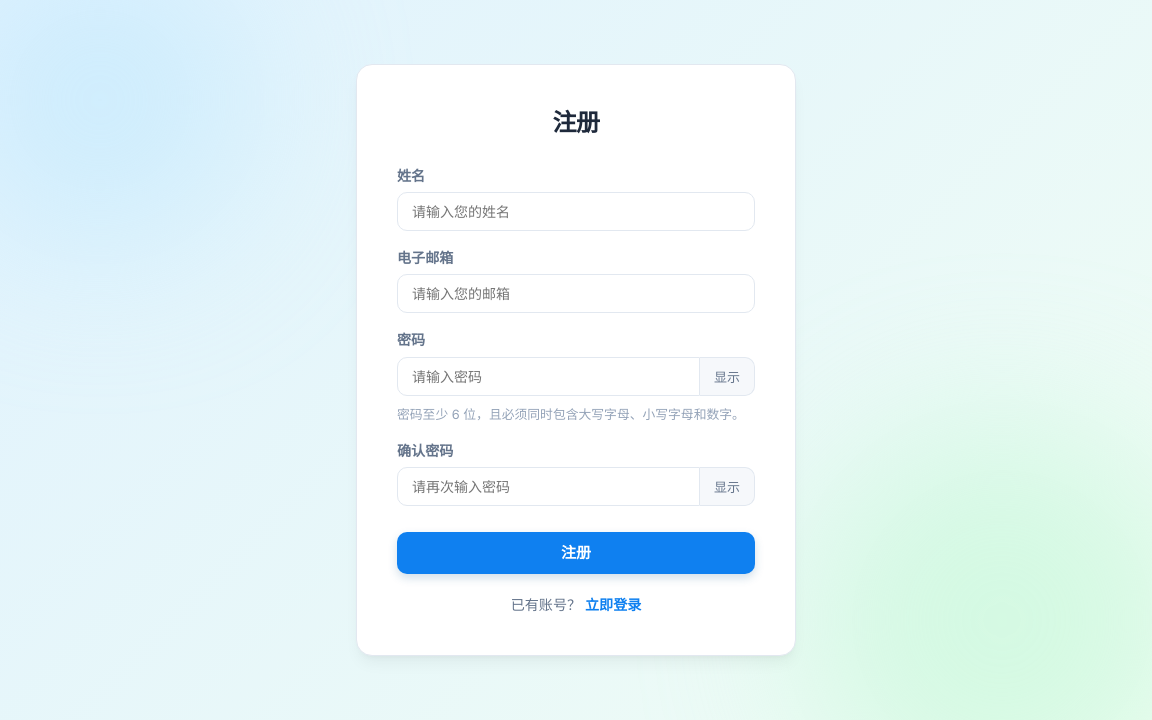
Test case: Register › 两次密码不一致时阻止提交并显示字段错误
Type "张三" into the field labelled "姓名".
click(576, 212); type("张三")  # box [397,192,755,231]
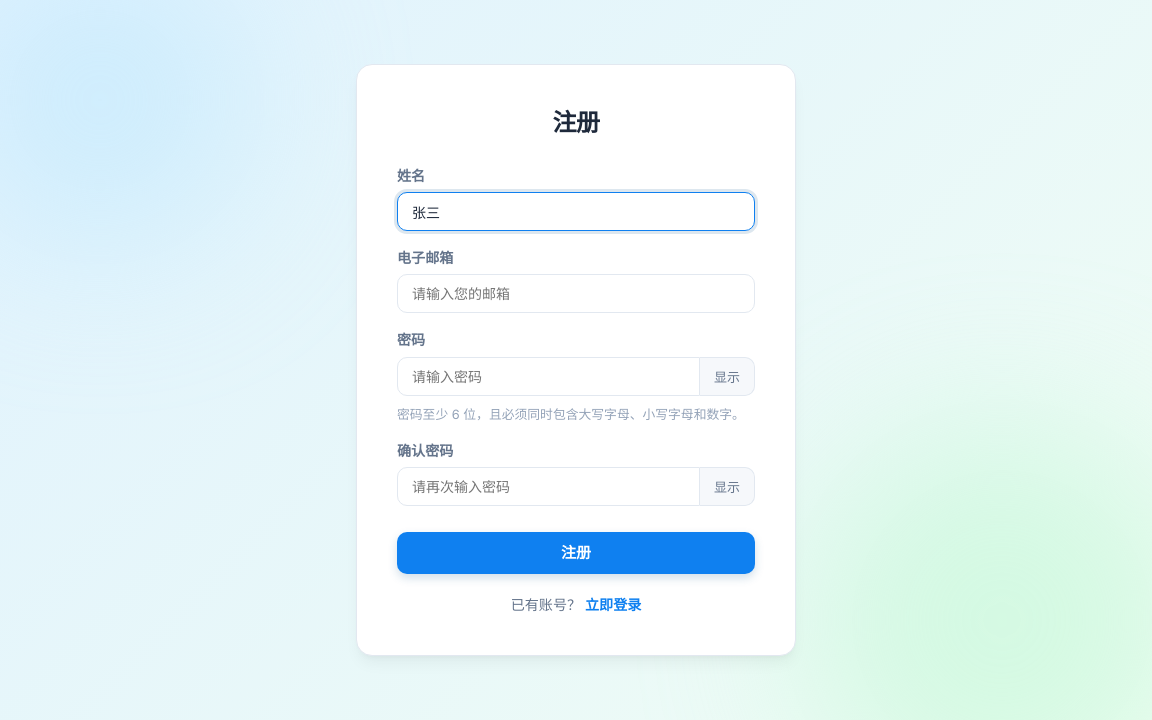
Type "a@b.com" into the field labelled "电子邮箱".
click(576, 294); type("a@b.com")  # box [397,274,755,314]
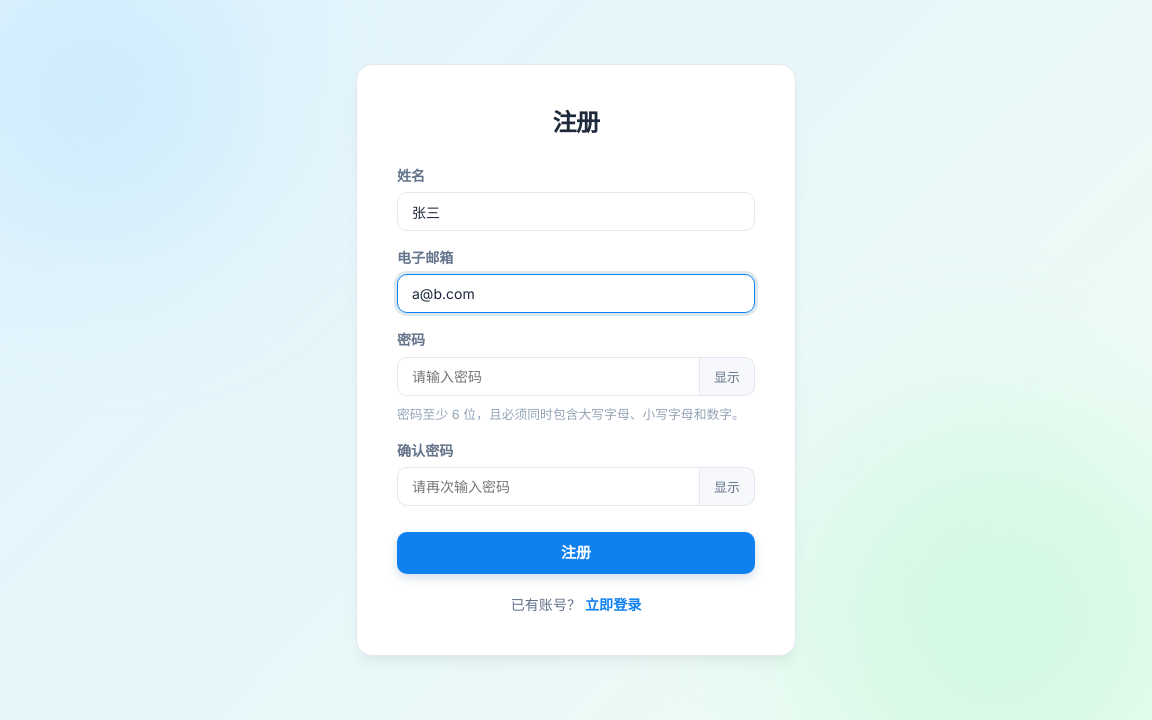
Type "Pass123!" into the password field labelled "密码".
click(548, 376); type("Pass123!")  # box [397,357,700,396]
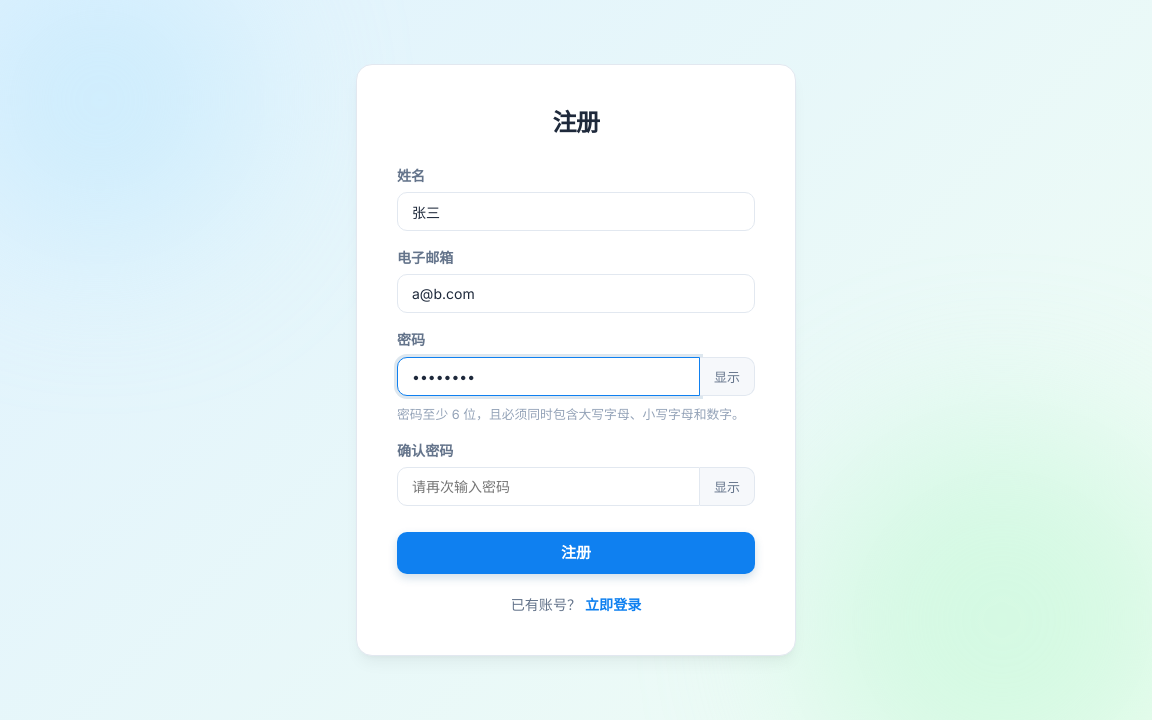
Type "Different1!" into the password field labelled "确认密码".
click(548, 486); type("Different1!")  # box [397,467,700,506]
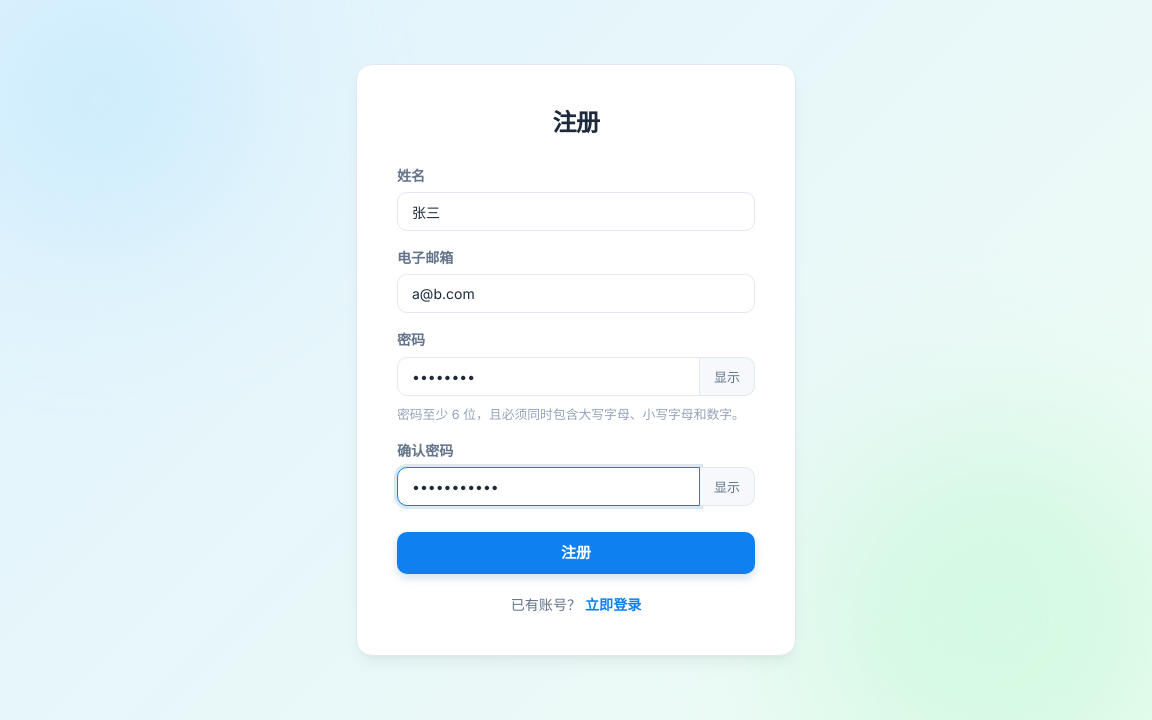
Click the button "注册".
click(576, 553)  # box [397,532,755,574]
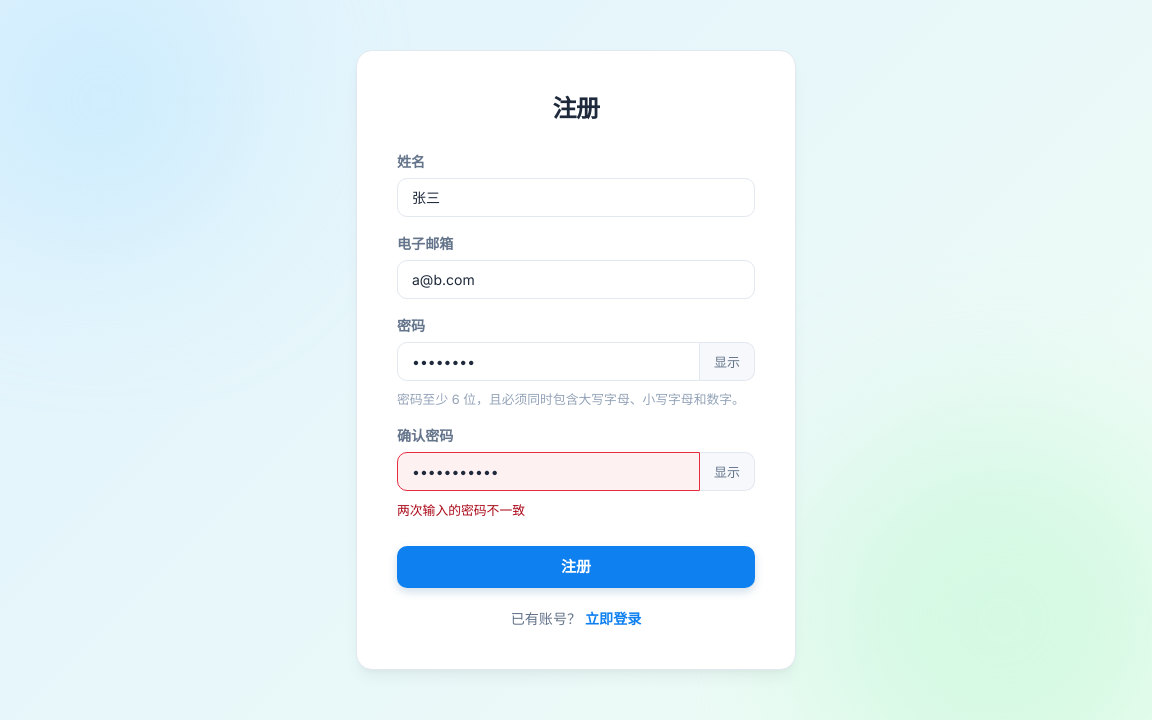
Expected: the text "两次输入的密码不一致" is shown, [397,503,525,518]
